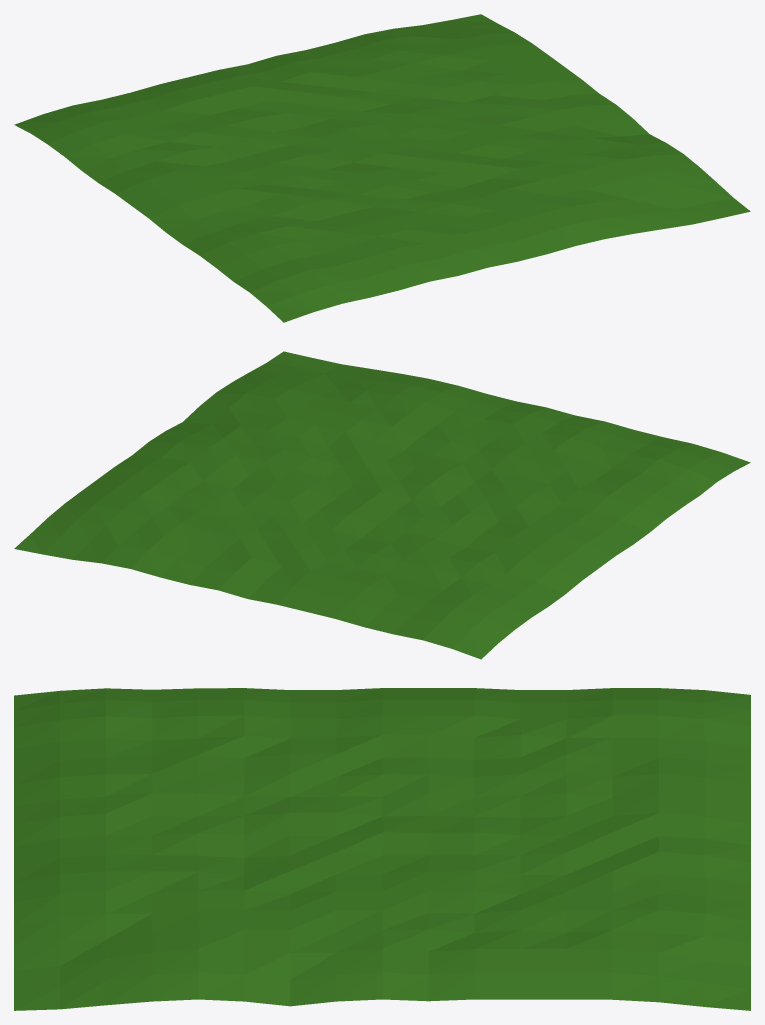
Rendered from ground3.fbx.
The picture shows the model from 3 angles, top to bottom: view 1: azimuth 30°, elevation 25°; view 2: azimuth 150°, elevation 25°; view 3: azimuth 270°, elevation 25°; orthographic projection. The views are drawn at different scales.
Visible parts, largest first — view 1: Plane; view 2: Plane; view 3: Plane.
Part boxes in pixels (x1,y1,x2,y2): Plane: [14, 14, 750, 322]; Plane: [14, 351, 750, 659]; Plane: [14, 688, 750, 1010].
Bounding box in the file's own units: 100 × 3.42 × 100.
1 material, 1 textured.
